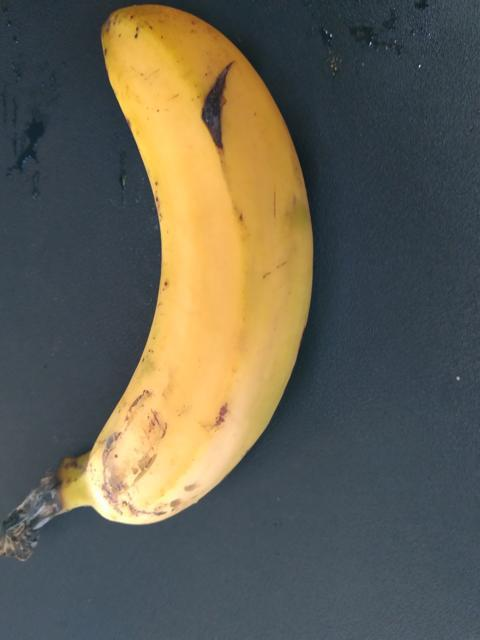ripe: (74, 13, 357, 540)
